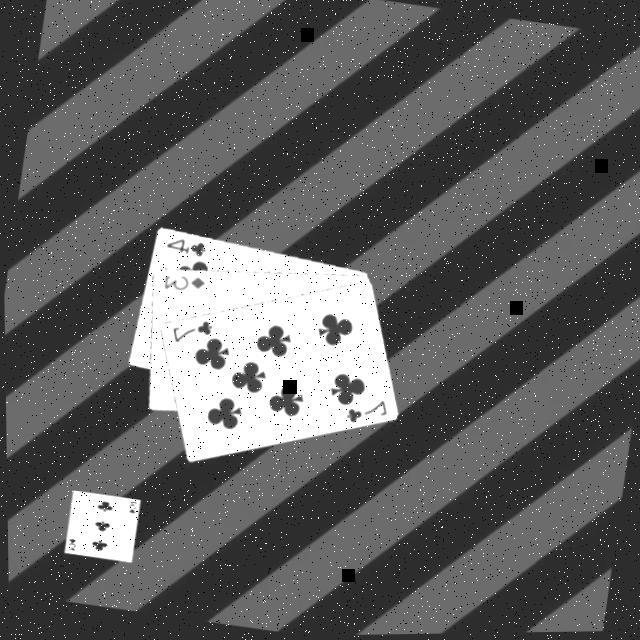3D: (157, 270, 207, 302)
4C: (159, 234, 208, 263)
7C: (338, 394, 389, 434), (164, 314, 214, 354)
